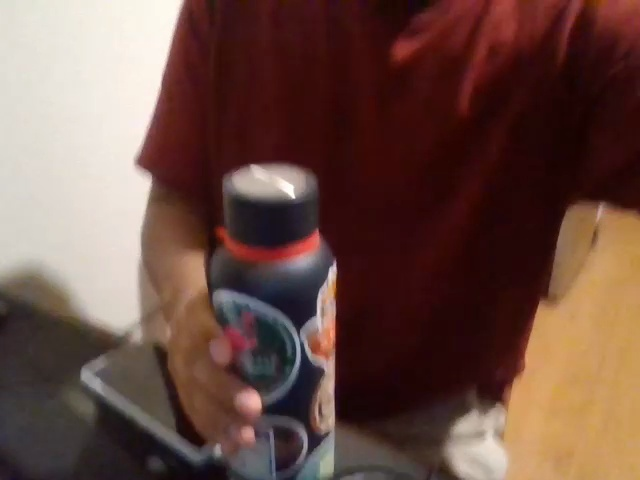bottle: (201, 212, 335, 479)
